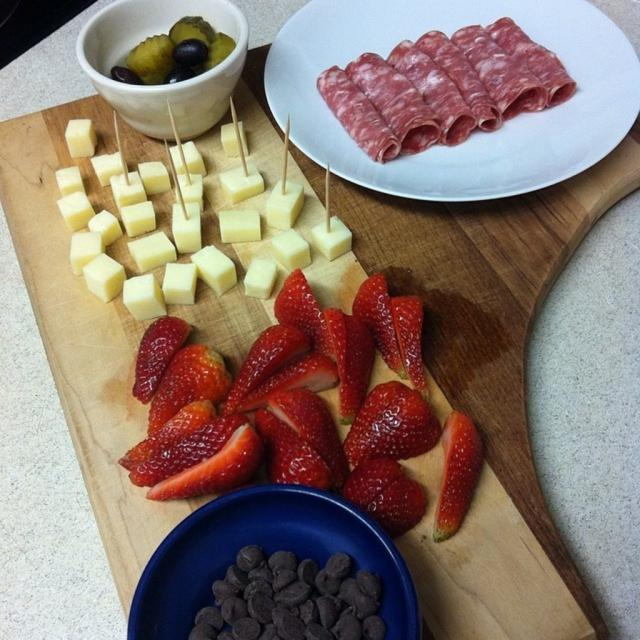Strawberry: (129, 411, 249, 489), (149, 420, 260, 501), (119, 398, 220, 473), (147, 347, 231, 433), (340, 389, 428, 469), (229, 352, 337, 417), (224, 323, 312, 402), (259, 408, 334, 498), (269, 391, 344, 481), (433, 410, 484, 541), (349, 275, 408, 379), (131, 314, 191, 404), (276, 270, 335, 359), (339, 315, 374, 424), (387, 295, 425, 395), (366, 479, 428, 538), (340, 461, 401, 509), (324, 311, 346, 377)
